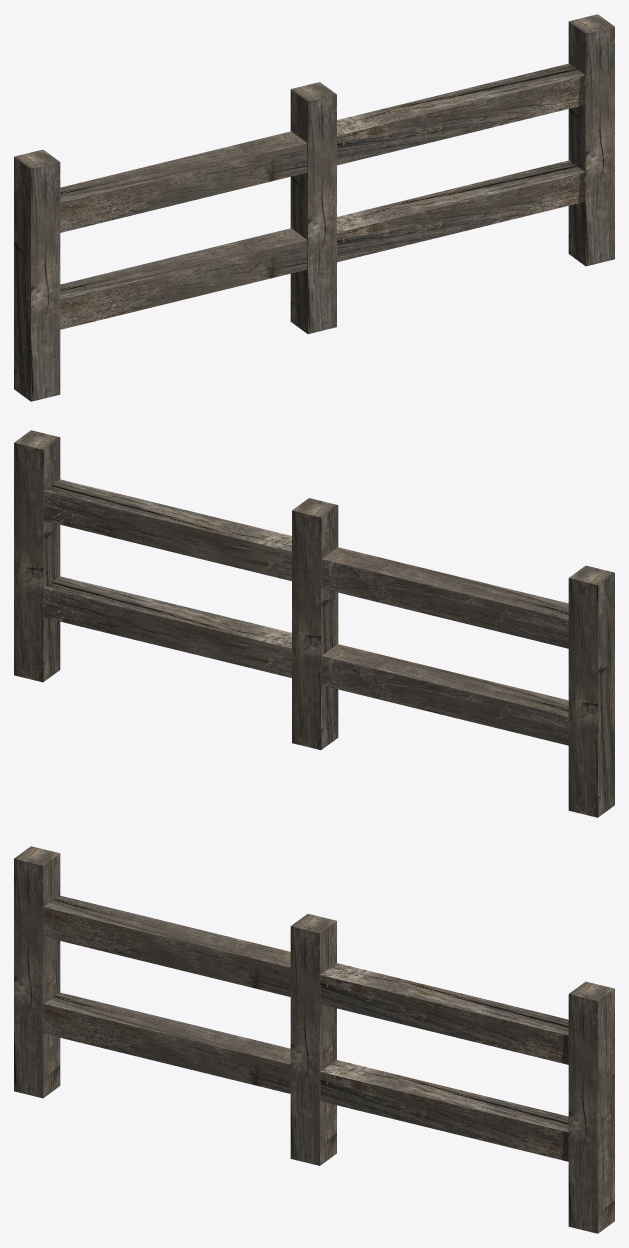
Rendered from vallaCorregidA.fbx.
3 renders of one model, top to bottom at view 1: azimuth 30°, elevation 25°; view 2: azimuth 150°, elevation 25°; view 3: azimuth 330°, elevation 25°, orthographic.
Visible parts, largest first — view 1: valla; view 2: valla; view 3: valla.
Boxes of the visible parts, x1=… form: valla: x1=14, y1=14, x2=614, y2=401; valla: x1=14, y1=430, x2=614, y2=817; valla: x1=14, y1=846, x2=614, y2=1233.
Size of the model in its own units: 394 by 150 by 20.
5 materials, 5 textured.
